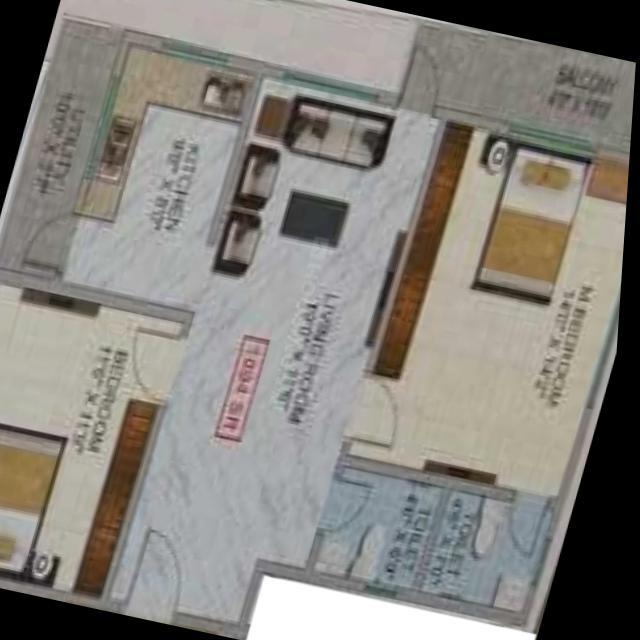Bedroom: (0, 269, 198, 611)
Bedroom with Toilet: (344, 112, 632, 510)
Enterance-Foyer: (128, 512, 215, 626)
Kitchen: (60, 34, 267, 311)
Living: (200, 68, 445, 358)
Toilet: (314, 449, 461, 605), (433, 472, 573, 624)
Utility: (0, 19, 126, 279)
